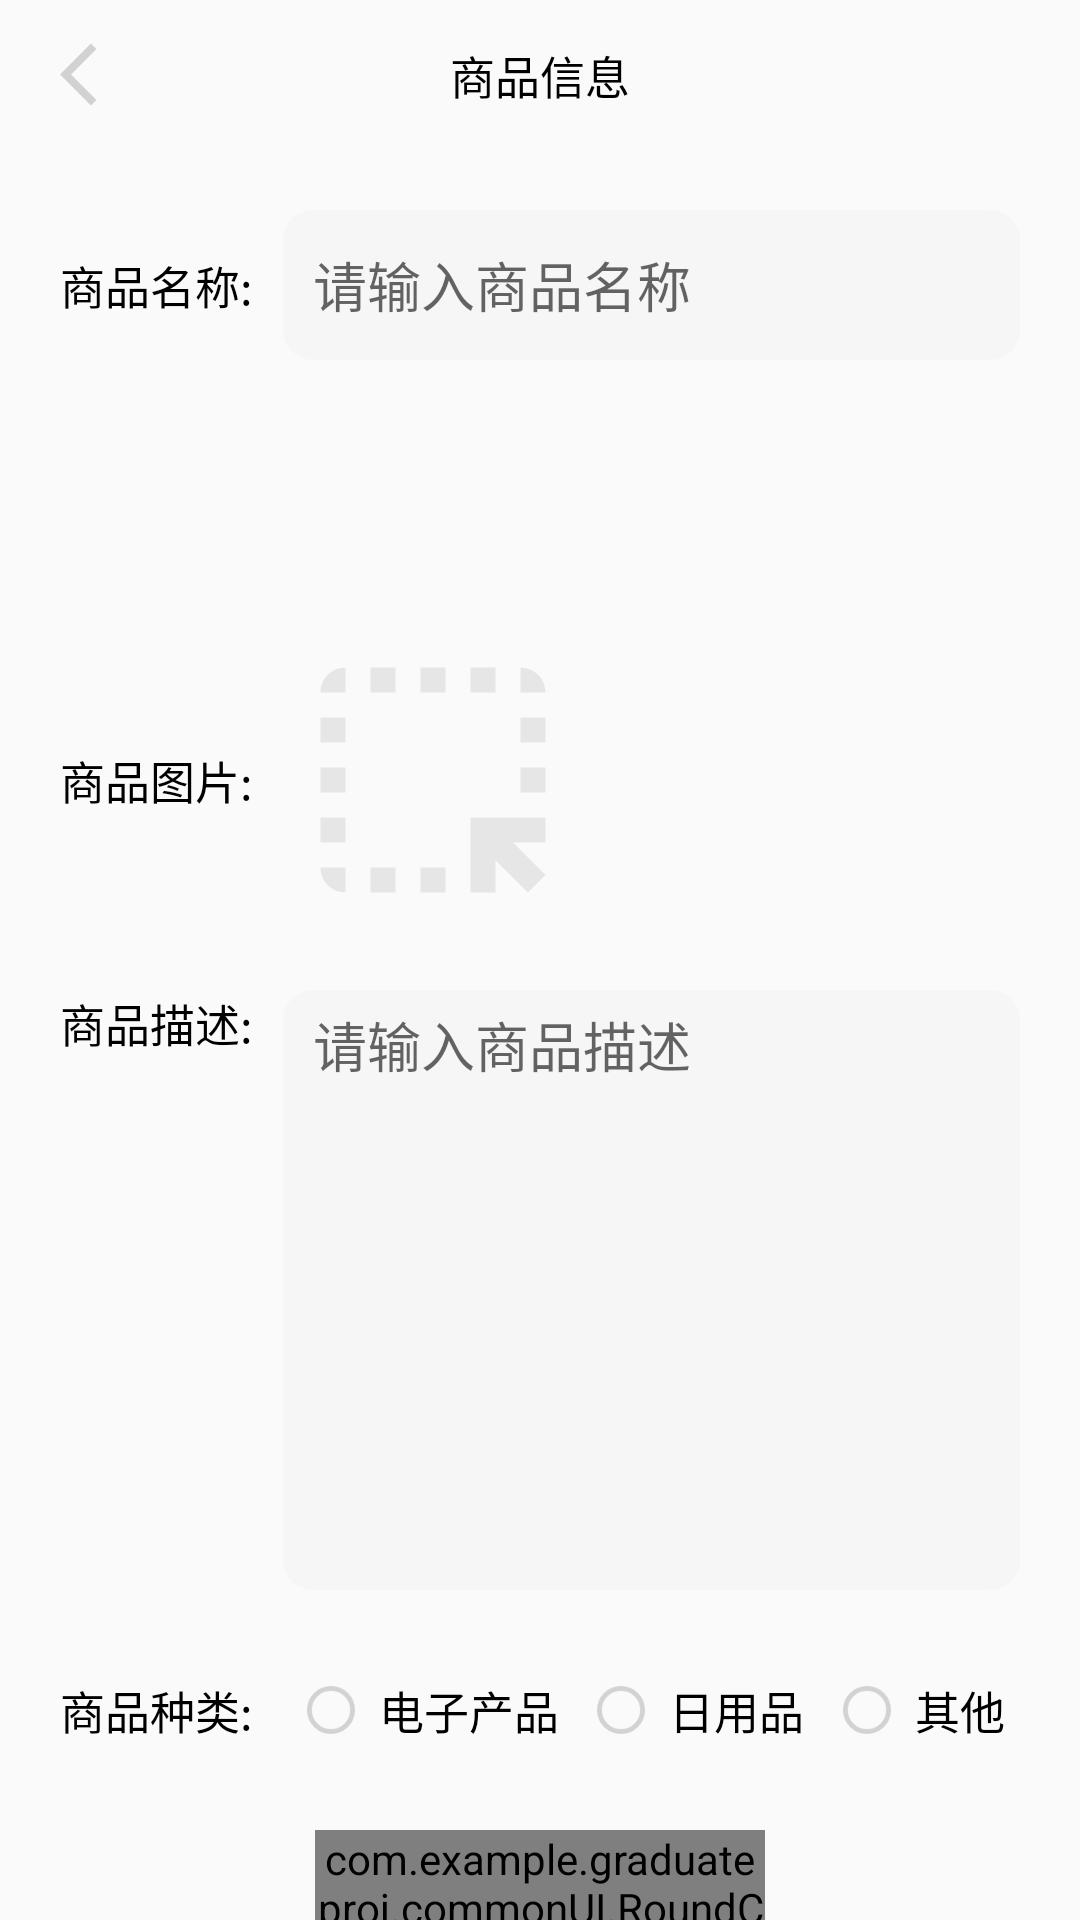

Locate icon controls on the screen. Image size 1080*1920, boxes as (x1, y1, x2, y2).
login back arrow: (60, 44, 96, 105)
